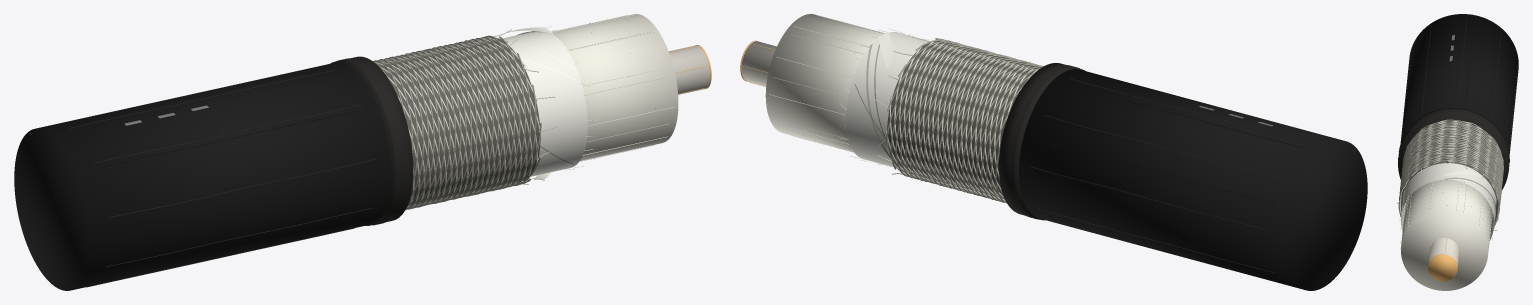
Rendered from rf-h155-macro.glb.
3 renders of one model, left to right at view 1: azimuth 30°, elevation 25°; view 2: azimuth 150°, elevation 25°; view 3: azimuth 270°, elevation 25°, orthographic. The views are drawn at different scales.
Parts seen in each view (by area): view 1: macro jacket body, macro dielectric exposed core, shadow seen through braid windows, continuous foil sleeve under braid, thick jacket cut wall, polished solid center conductor, rounded jacket cut lip, macro braid shadow carrier 05 strand 1, macro braid shadow carrier 07 strand 1, macro braid shadow carrier 06 strand 1, macro braid shadow carrier 04 strand 1, macro braid shadow carrier 11 strand 1 (+8 smaller); view 2: macro jacket body, macro dielectric exposed core, shadow seen through braid windows, continuous foil sleeve under braid, thick jacket cut wall, rounded jacket cut lip, polished solid center conductor, macro braid shadow carrier 03 strand 1, macro braid shadow carrier 12 strand 1, macro braid shadow carrier 02 strand 1, macro braid shadow carrier 08 strand 1, macro braid shadow carrier 01 strand 1 (+8 smaller); view 3: macro jacket body, macro dielectric exposed core, continuous foil sleeve under braid, thick jacket cut wall, shadow seen through braid windows, polished conductor cut face glow, polished solid center conductor, macro braid shadow carrier 09 strand 2, macro braid shadow carrier 07 strand 2, macro braid shadow carrier 05 strand 2, macro braid shadow carrier 10 strand 2, macro braid shadow carrier 11 strand 2 (+34 smaller).
Part boxes in pixels (box(x1,y1,x2,y2)): macro jacket body: box(14, 62, 390, 290); macro dielectric exposed core: box(552, 14, 678, 160); shadow seen through braid windows: box(379, 38, 540, 205); continuous foil sleeve under braid: box(503, 31, 587, 176); thick jacket cut wall: box(330, 56, 413, 225); polished solid center conductor: box(668, 45, 710, 94); rounded jacket cut lip: box(336, 58, 402, 225); macro braid shadow carrier 05 strand 1: box(410, 38, 509, 208); macro braid shadow carrier 07 strand 1: box(421, 36, 519, 206); macro braid shadow carrier 06 strand 1: box(416, 36, 514, 207); macro braid shadow carrier 04 strand 1: box(405, 39, 504, 208); macro braid shadow carrier 11 strand 1: box(378, 45, 541, 201); macro jacket body: box(1019, 69, 1367, 290); macro dielectric exposed core: box(765, 14, 883, 152); shadow seen through braid windows: box(887, 41, 1038, 199); continuous foil sleeve under braid: box(845, 32, 928, 167); thick jacket cut wall: box(999, 63, 1084, 220); rounded jacket cut lip: box(1008, 65, 1079, 219); polished solid center conductor: box(741, 41, 776, 86); macro braid shadow carrier 03 strand 1: box(895, 46, 1029, 192); macro braid shadow carrier 12 strand 1: box(910, 49, 1043, 196); macro braid shadow carrier 02 strand 1: box(901, 47, 1033, 193); macro braid shadow carrier 08 strand 1: box(915, 39, 1023, 201); macro braid shadow carrier 01 strand 1: box(905, 48, 1036, 194); macro jacket body: box(1400, 14, 1518, 154); macro dielectric exposed core: box(1401, 179, 1492, 290); continuous foil sleeve under braid: box(1401, 163, 1496, 239); thick jacket cut wall: box(1398, 108, 1509, 190); shadow seen through braid windows: box(1401, 122, 1497, 221); polished conductor cut face glow: box(1428, 254, 1457, 281); polished solid center conductor: box(1428, 238, 1459, 266); macro braid shadow carrier 09 strand 2: box(1399, 121, 1502, 198); macro braid shadow carrier 07 strand 2: box(1400, 122, 1503, 188); macro braid shadow carrier 05 strand 2: box(1400, 134, 1503, 214); macro braid shadow carrier 10 strand 2: box(1399, 123, 1502, 198); macro braid shadow carrier 11 strand 2: box(1399, 125, 1502, 216).
Size of the model in its own units: 6.47 by 1.48 by 1.63.
